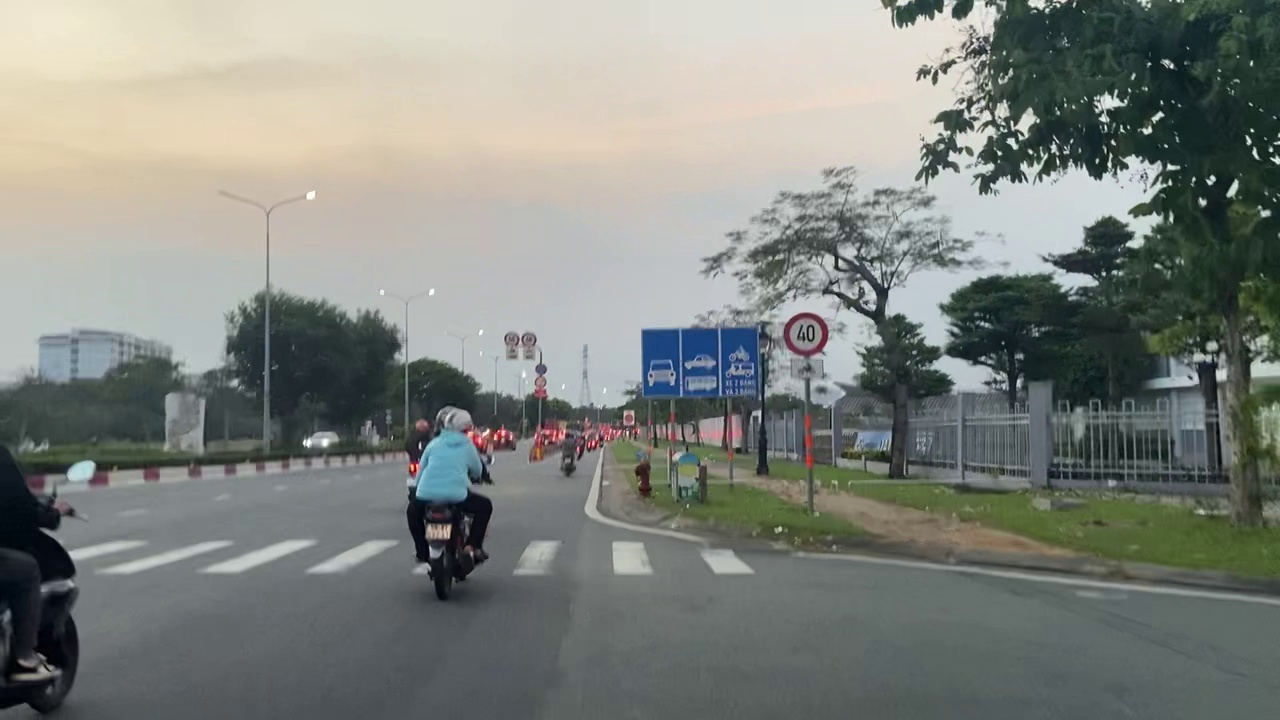gioi_han_40km: (782, 311, 830, 357)
